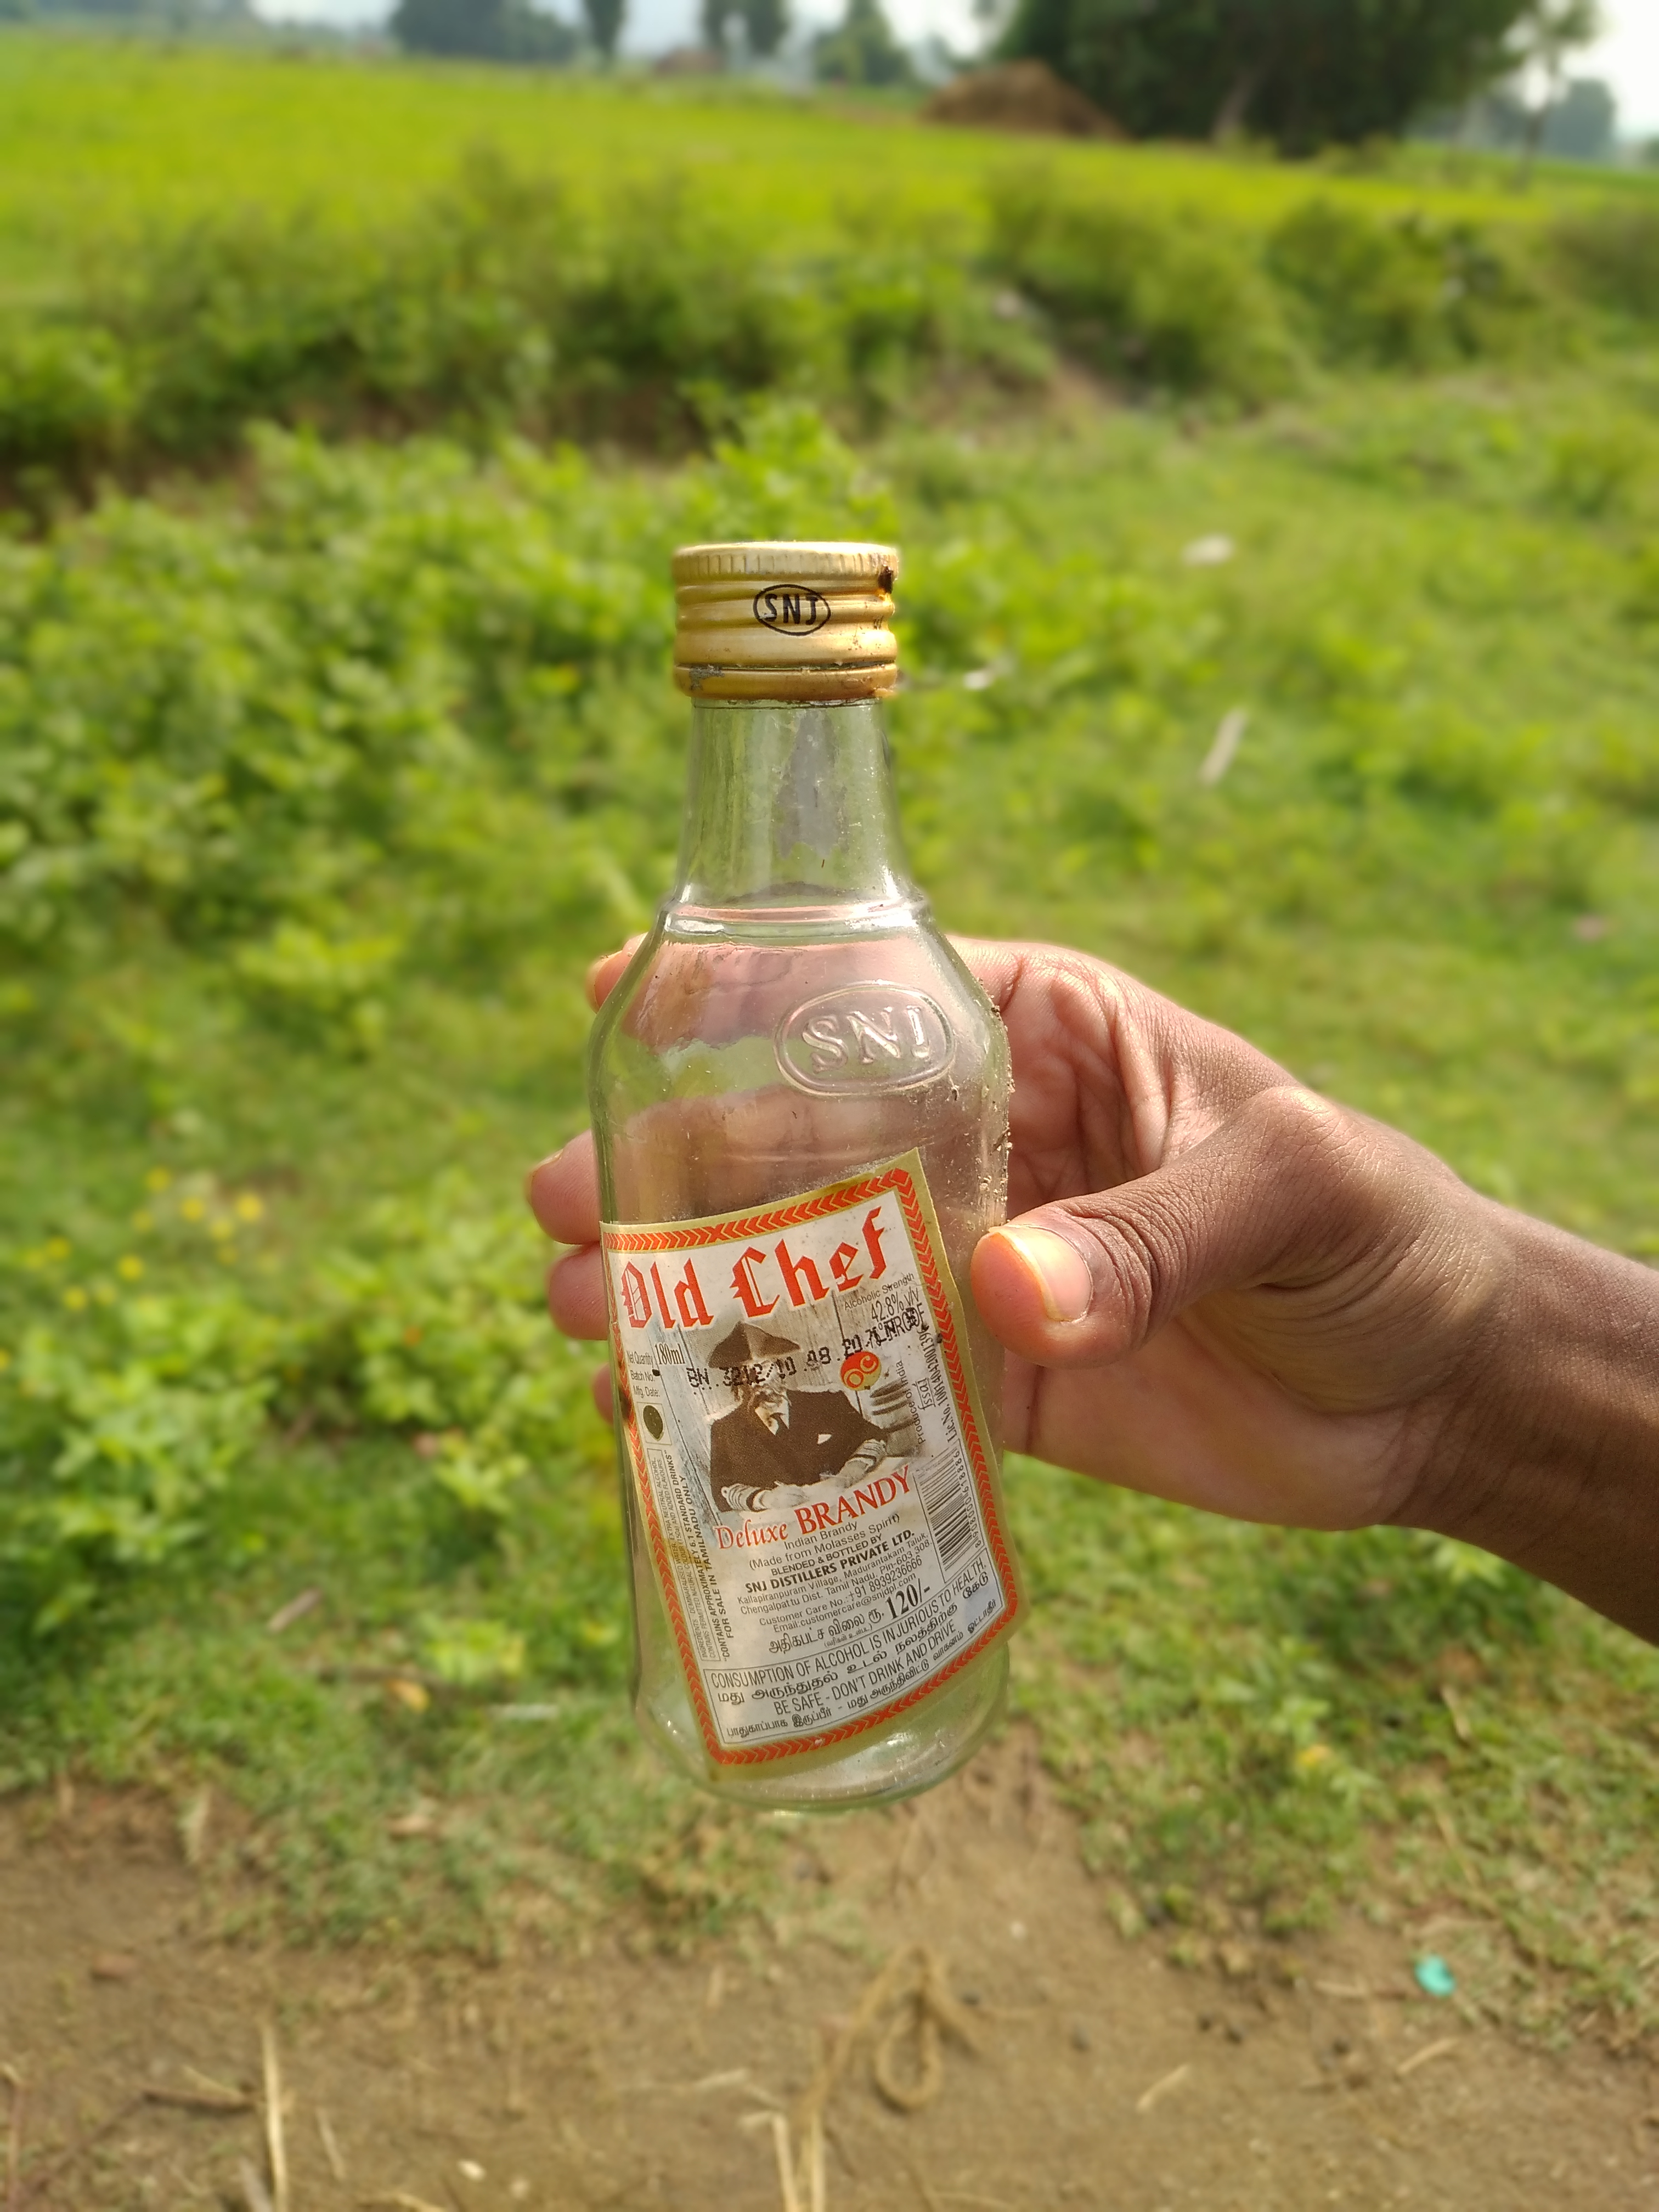glass_bottle: (505, 456, 1098, 1874)
